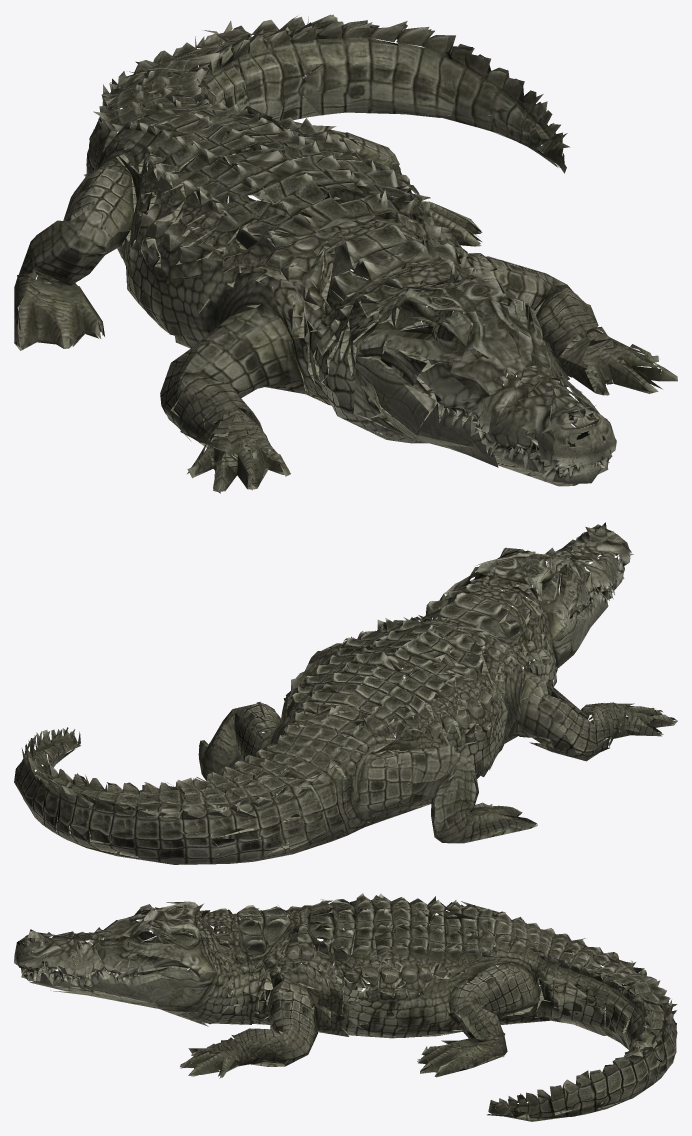
File: crocodile.glb
3 renders of one model, top to bottom at view 1: azimuth 30°, elevation 25°; view 2: azimuth 150°, elevation 25°; view 3: azimuth 270°, elevation 25°, orthographic. The views are drawn at different scales.
Parts seen in each view (by area): view 1: output_unwrapped; view 2: output_unwrapped; view 3: output_unwrapped.
Boxes of the visible parts, x1,y1,x2,y2 form: output_unwrapped: (14, 14, 677, 493); output_unwrapped: (14, 522, 677, 864); output_unwrapped: (14, 893, 677, 1121).
Size of the model in its own units: 2.62 by 0.6909 by 3.99.
1 material, 1 textured.
